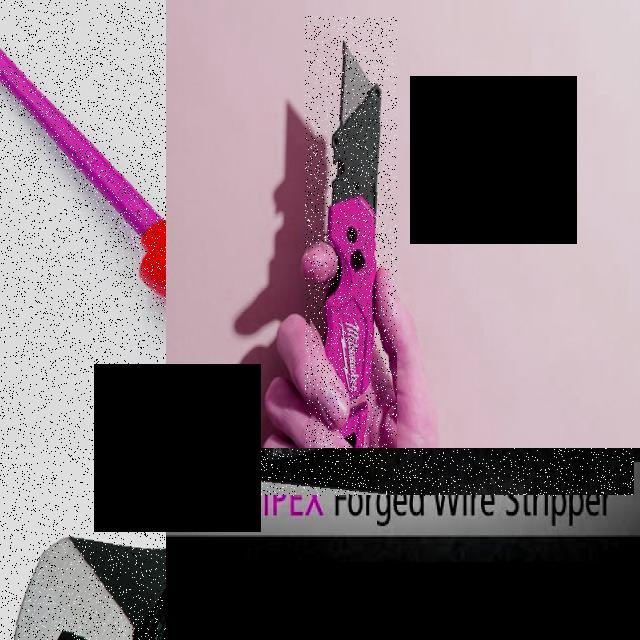estilete: (325, 43, 380, 446)
